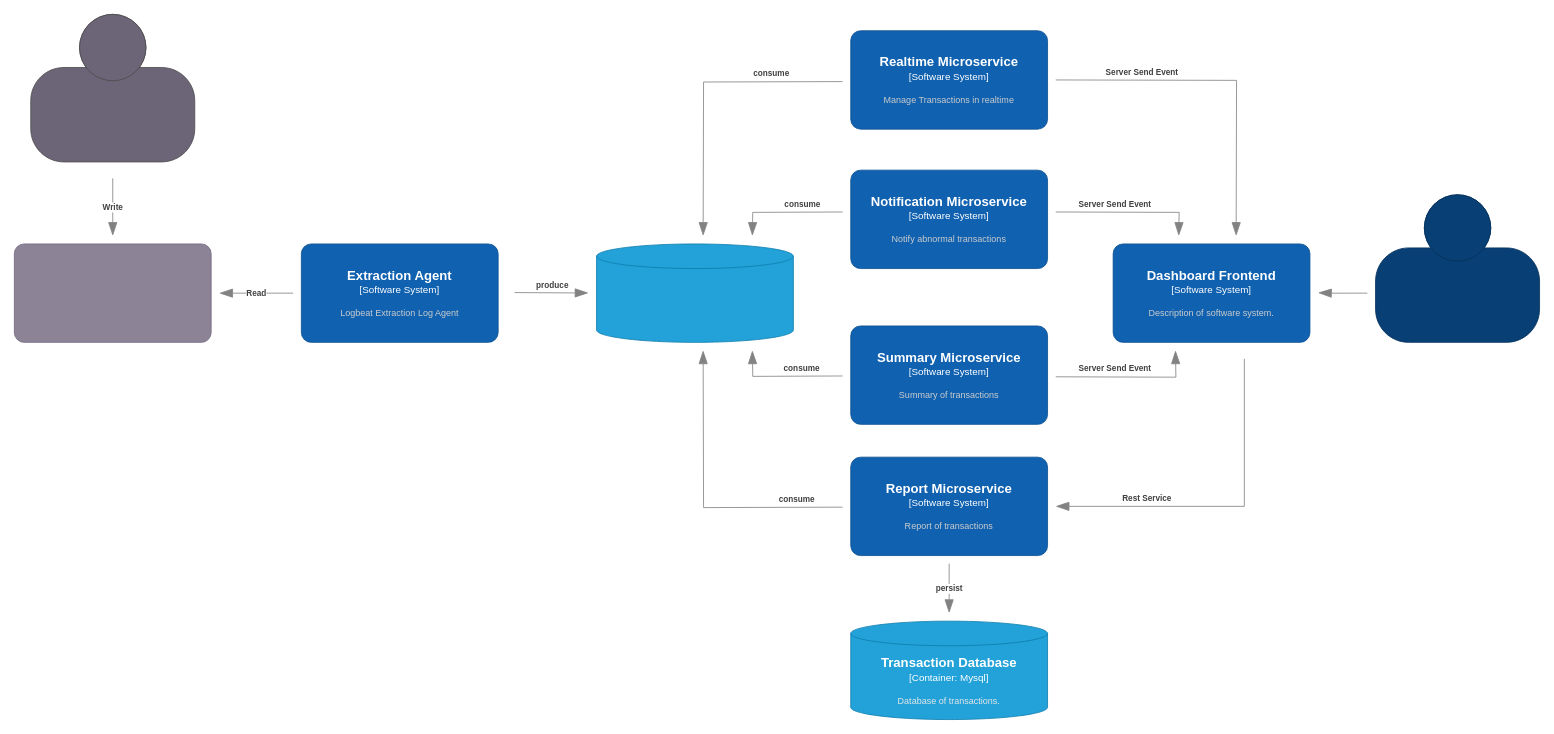
The diagram is 1554 pixels wide and 734 high, and some of its shapes have lost their labels. Each missing label, with the centre of its shape:
Event bus [Container: Kafka] Kafka Event Bus: (x=694, y=292)
Log File [Software System] Transaction System File Log: (x=112, y=292)
Real Time Payment Dashboard [Person] External Real Time Payment Dashboard.: (x=112, y=88)
System User [Person] Web Browser: (x=1457, y=268)
